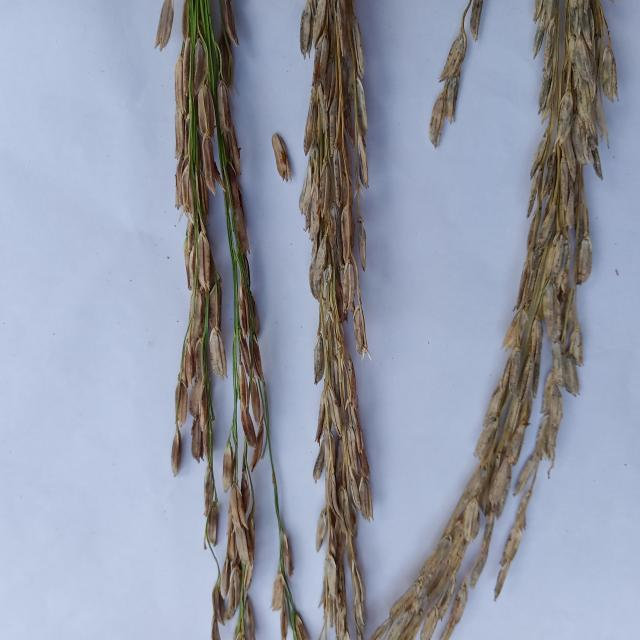Neck_Blast: (393, 4, 601, 632), (173, 3, 265, 627), (309, 2, 371, 631)
